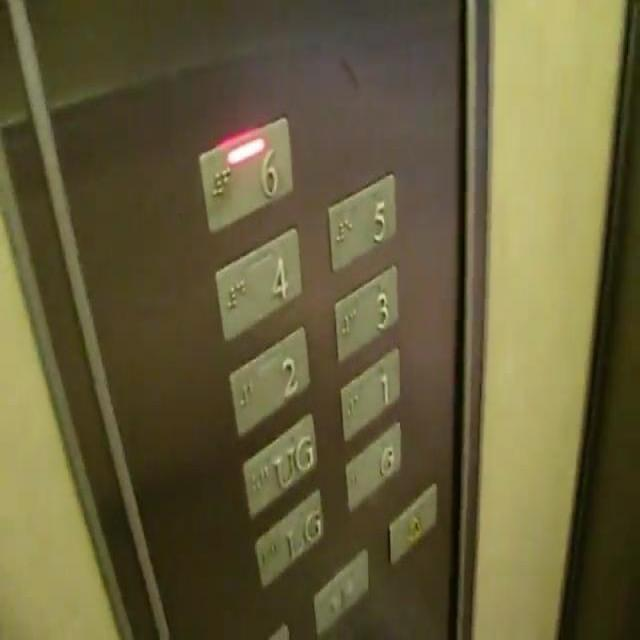1: (338, 346, 402, 442)
2: (227, 324, 311, 437)
3: (333, 264, 399, 363)
4: (213, 225, 302, 339)
5: (327, 172, 397, 272)
6: (198, 115, 294, 233)
G: (344, 420, 401, 508)
LG: (252, 490, 324, 590)
UG: (241, 413, 318, 519)
alarm: (386, 480, 439, 563)
blur: (313, 547, 370, 637)
